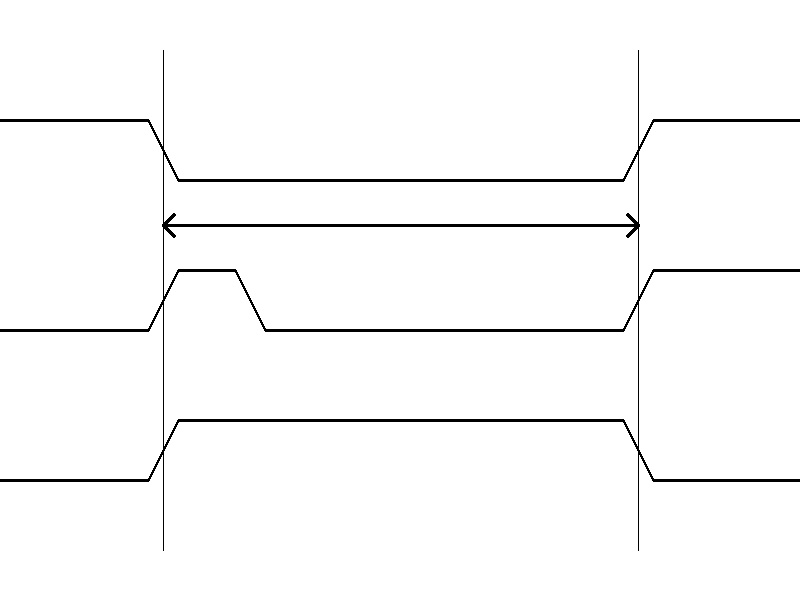double_arrow: (163, 210, 638, 240)
